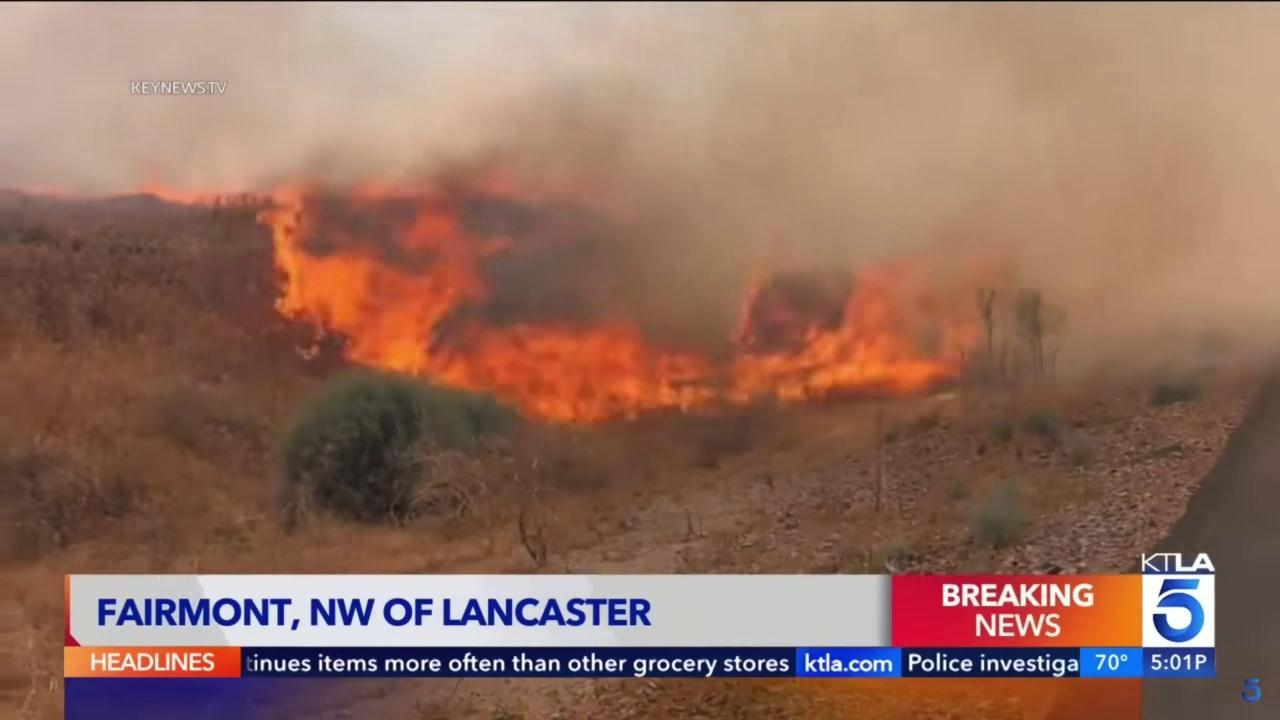fire: (139, 169, 1005, 427)
smoke: (0, 0, 1280, 435)
